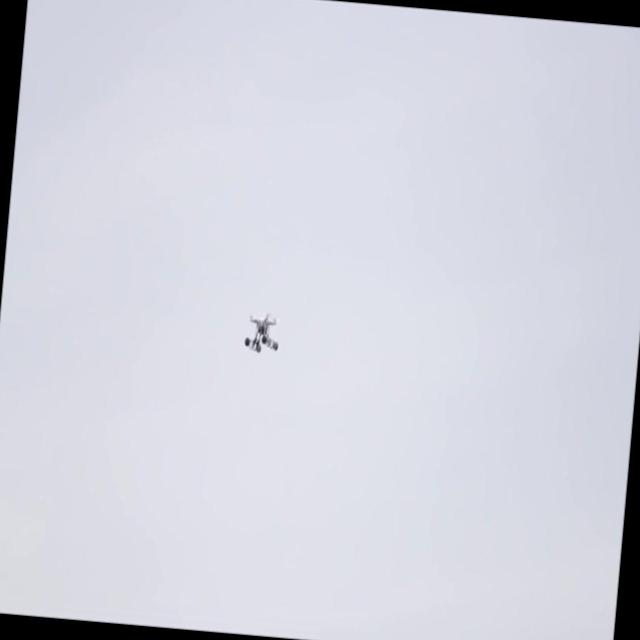drone: (242, 306, 282, 359)
